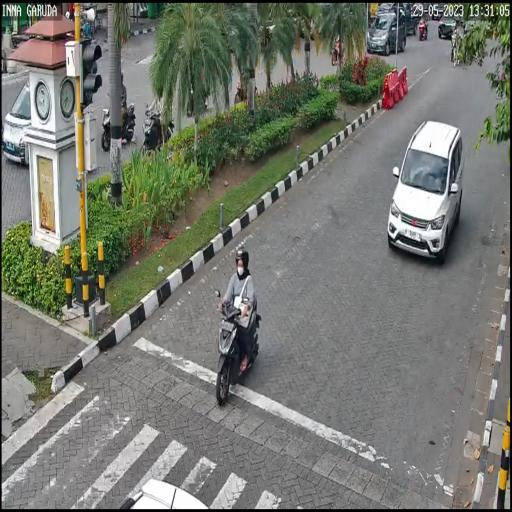mobil: (388, 118, 465, 262)
motor: (211, 287, 264, 406)
